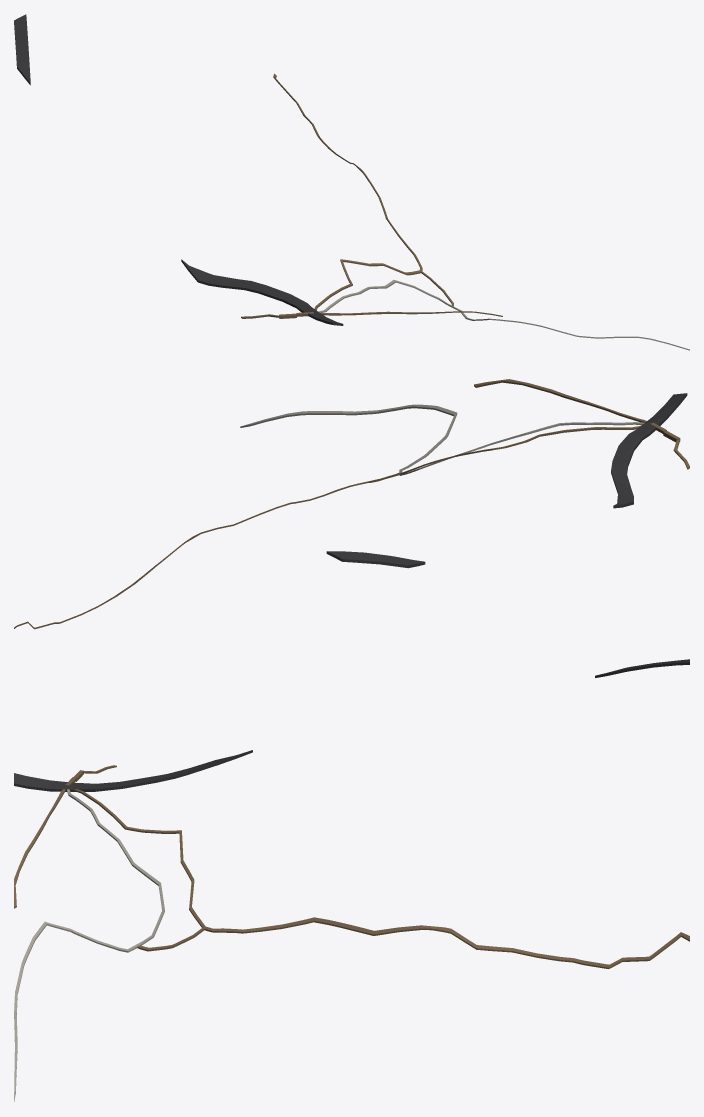
The picture shows the model from 3 angles, top to bottom: view 1: azimuth 30°, elevation 25°; view 2: azimuth 150°, elevation 25°; view 3: azimuth 270°, elevation 25°; orthographic projection. The views are drawn at different scales.
Bounding box in the file's own units: 229 × 113 × 292.
